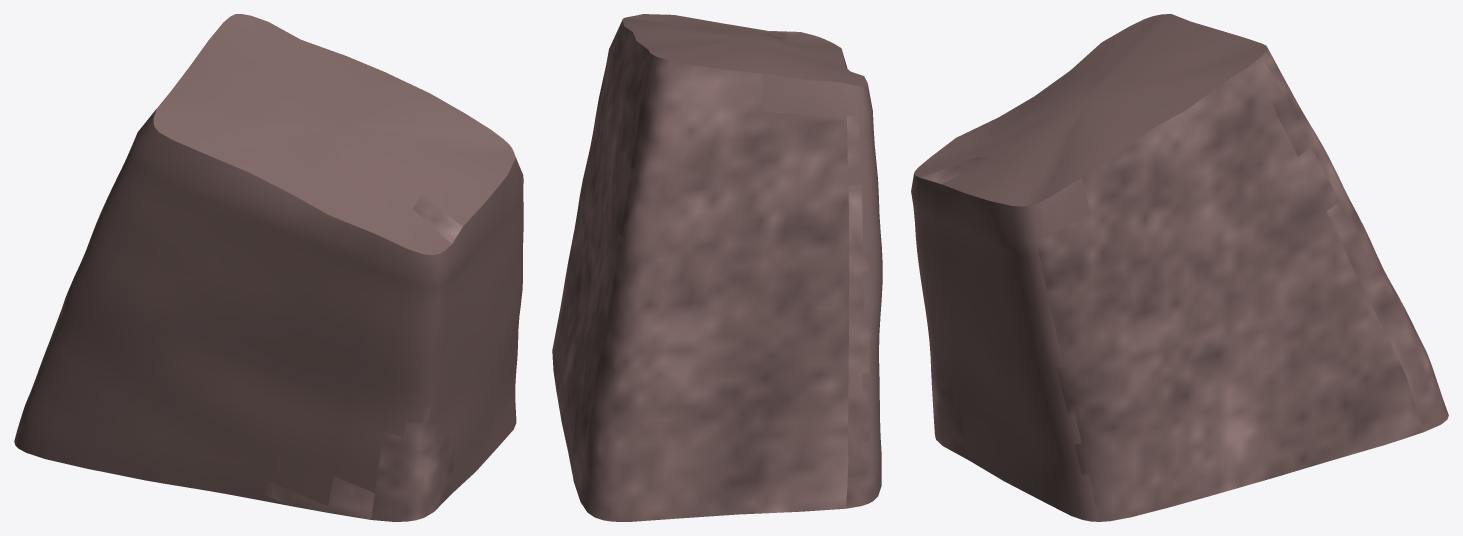
File: TarHenge12.glb
3 views of the same model, side by side, from view 1: azimuth 30°, elevation 25°; view 2: azimuth 150°, elevation 25°; view 3: azimuth 270°, elevation 25° (orthographic).
Visible parts, largest first — view 1: TarHenge12; view 2: TarHenge12; view 3: TarHenge12.
Boxes of the visible parts, x1,y1,x2,y2 form: TarHenge12: (14, 14, 523, 521); TarHenge12: (552, 14, 882, 521); TarHenge12: (911, 14, 1448, 521).
Bounding box in the file's own units: 2.74 × 2.5 × 3.19.
Materials: 2 (1 with a texture image).
